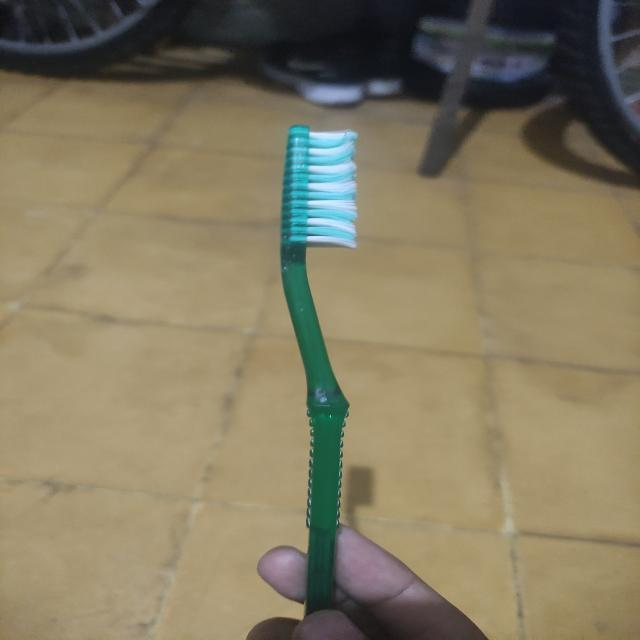toothbrush: (238, 111, 402, 616)
